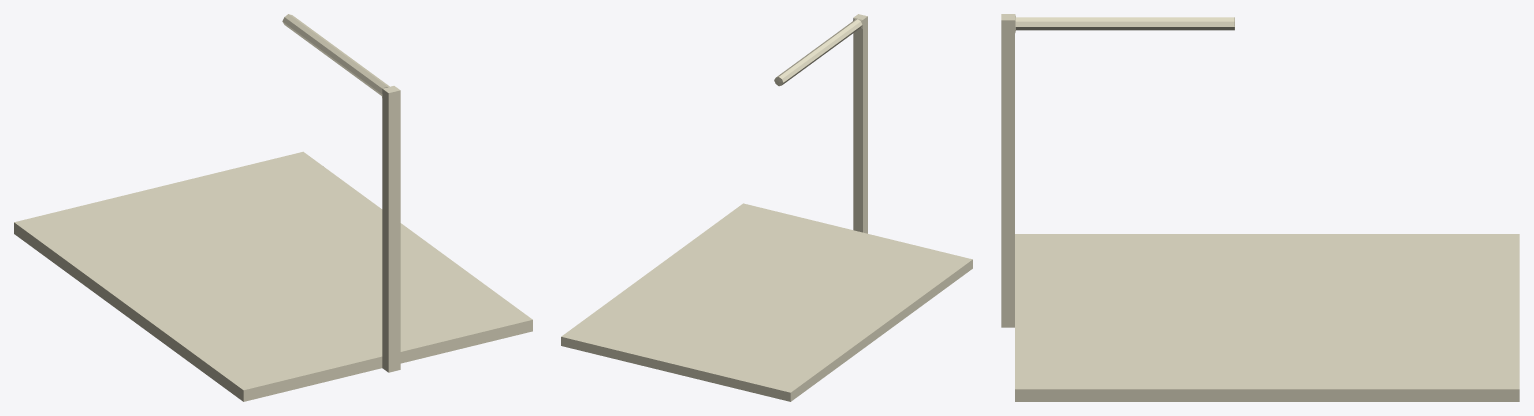
3 views of the same model, side by side, from view 1: azimuth 30°, elevation 25°; view 2: azimuth 150°, elevation 25°; view 3: azimuth 270°, elevation 25° (orthographic). The views are drawn at different scales.
Parts seen in each view (by area): view 1: 架子; view 2: 架子; view 3: 架子.
Part boxes in pixels (x1,y1,x2,y2): 架子: [14, 14, 532, 401]; 架子: [561, 14, 972, 401]; 架子: [1001, 14, 1519, 401].
Size of the model in its own units: 382 by 353 by 540.
